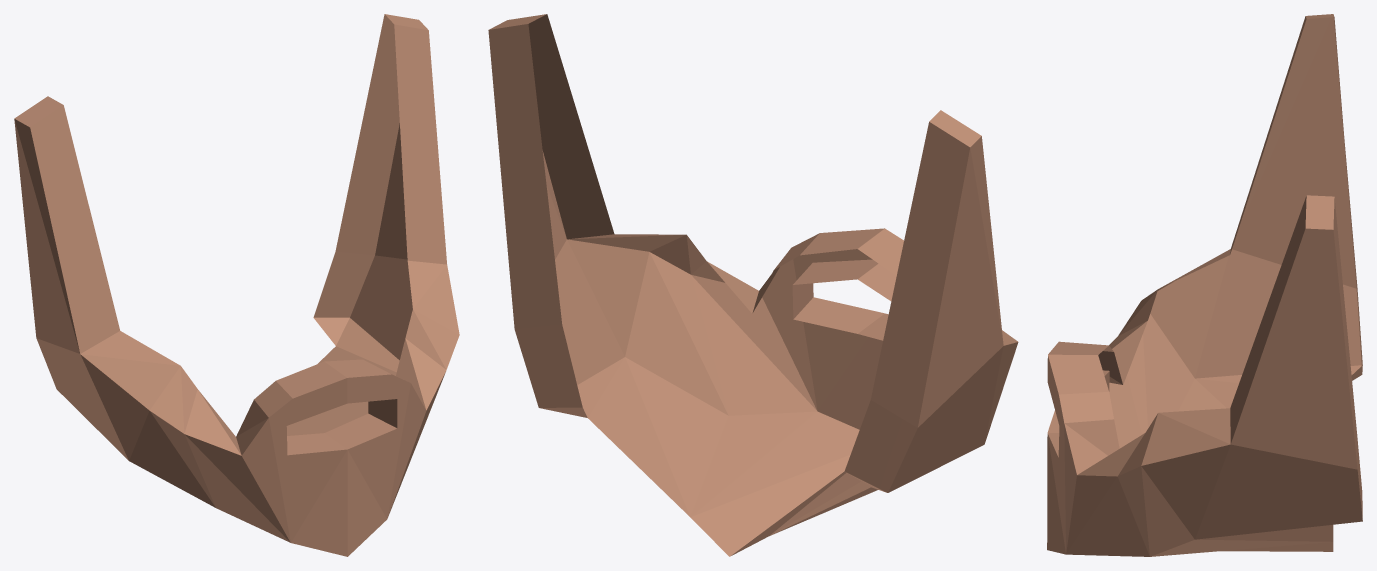
Rendered from Sheriff_Beard_A.fbx.
3 views of the same model, side by side, from view 1: azimuth 30°, elevation 25°; view 2: azimuth 150°, elevation 25°; view 3: azimuth 270°, elevation 25° (orthographic). The views are drawn at different scales.
Visible parts, largest first — view 1: Sheriff_Beard_A; view 2: Sheriff_Beard_A; view 3: Sheriff_Beard_A.
Part boxes in pixels (x1,y1,x2,y2): Sheriff_Beard_A: (14, 14, 459, 556); Sheriff_Beard_A: (488, 14, 1018, 556); Sheriff_Beard_A: (1047, 14, 1362, 556).
Bounding box in the file's own units: 18.37 × 17.66 × 11.36.
